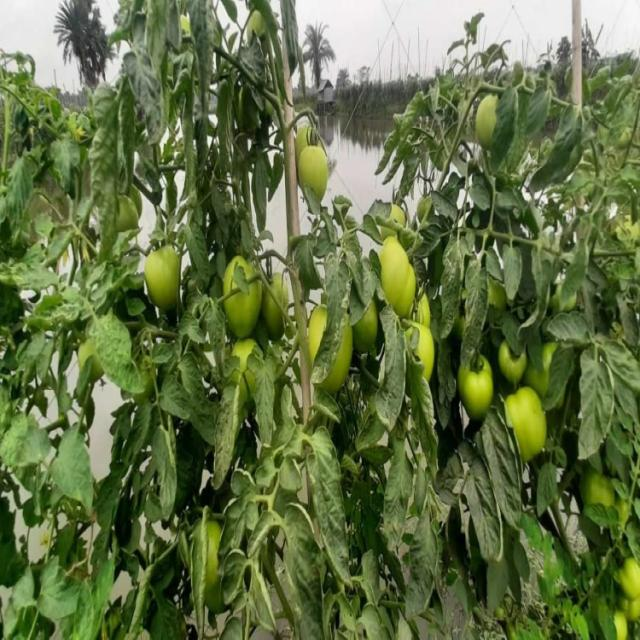tomato: (298, 305, 365, 386), (409, 321, 461, 416), (219, 258, 268, 349), (498, 382, 553, 461), (375, 247, 429, 325), (133, 231, 179, 308), (455, 352, 495, 412), (294, 142, 338, 194), (583, 478, 625, 521), (472, 89, 499, 139), (620, 554, 640, 609)
